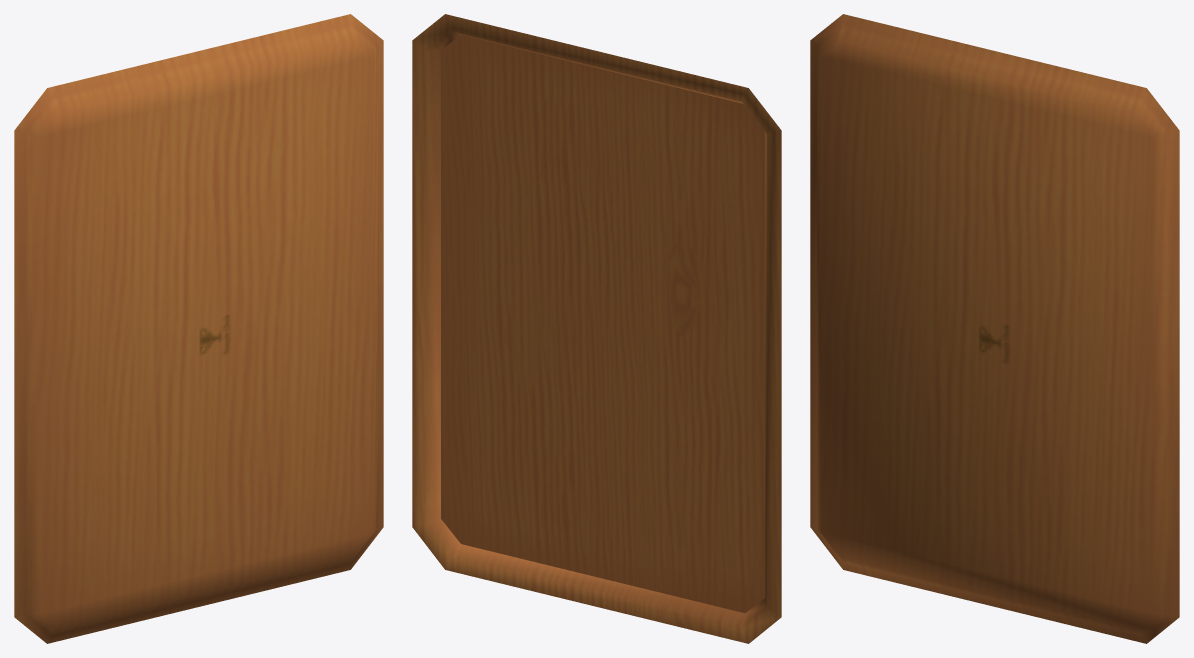
The model's file is TrayWood.fbx.
3 renders of one model, left to right at view 1: azimuth 30°, elevation 25°; view 2: azimuth 150°, elevation 25°; view 3: azimuth 330°, elevation 25°, orthographic.
Parts seen in each view (by area): view 1: Empty_Mesh; view 2: Empty_Mesh; view 3: Empty_Mesh.
Part boxes in pixels (bbox=[...]): Empty_Mesh: bbox=[14, 14, 383, 643]; Empty_Mesh: bbox=[412, 14, 781, 643]; Empty_Mesh: bbox=[810, 14, 1179, 643].
Size of the model in its own units: 54.71 by 78.65 by 2.11.
Materials: 1 (1 with a texture image).
